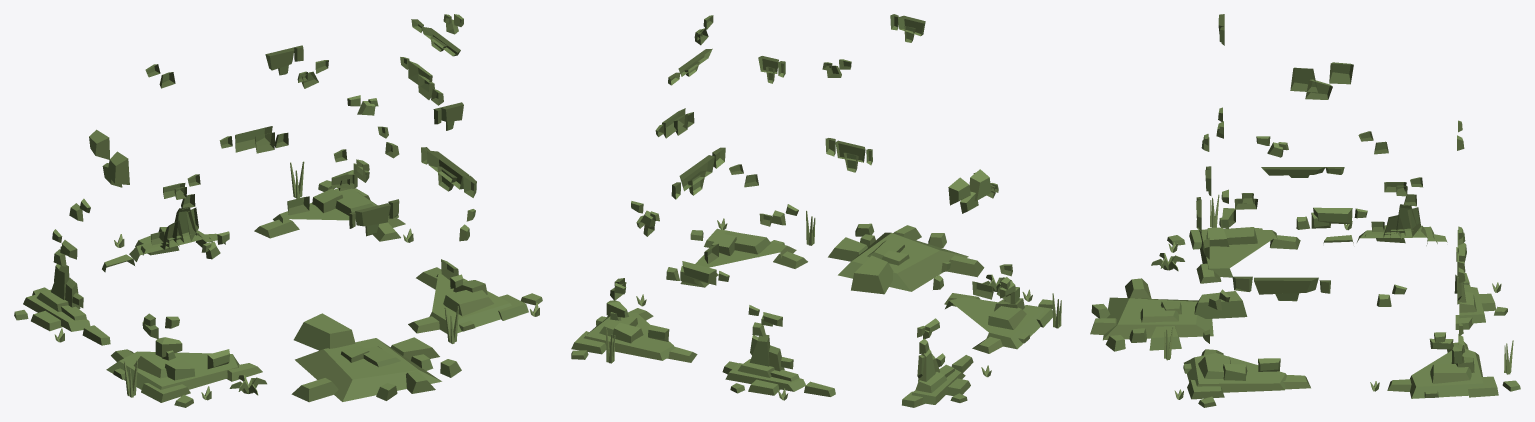
Rendered from SA_Bld_TownHouseLarge_Growth_01.gltf.
3 views of the same model, side by side, from view 1: azimuth 30°, elevation 25°; view 2: azimuth 150°, elevation 25°; view 3: azimuth 270°, elevation 25° (orthographic). The views are drawn at different scales.
Visible parts, largest first — view 1: SA_Bld_TownHouseLarge_Growth_01; view 2: SA_Bld_TownHouseLarge_Growth_01; view 3: SA_Bld_TownHouseLarge_Growth_01.
Part boxes in pixels (x1,y1,x2,y2): SA_Bld_TownHouseLarge_Growth_01: (14, 14, 542, 407); SA_Bld_TownHouseLarge_Growth_01: (571, 14, 1061, 407); SA_Bld_TownHouseLarge_Growth_01: (1090, 14, 1520, 407).
Bounding box in the file's own units: 23.76 × 16.74 × 23.53.
1 material, 1 textured.
